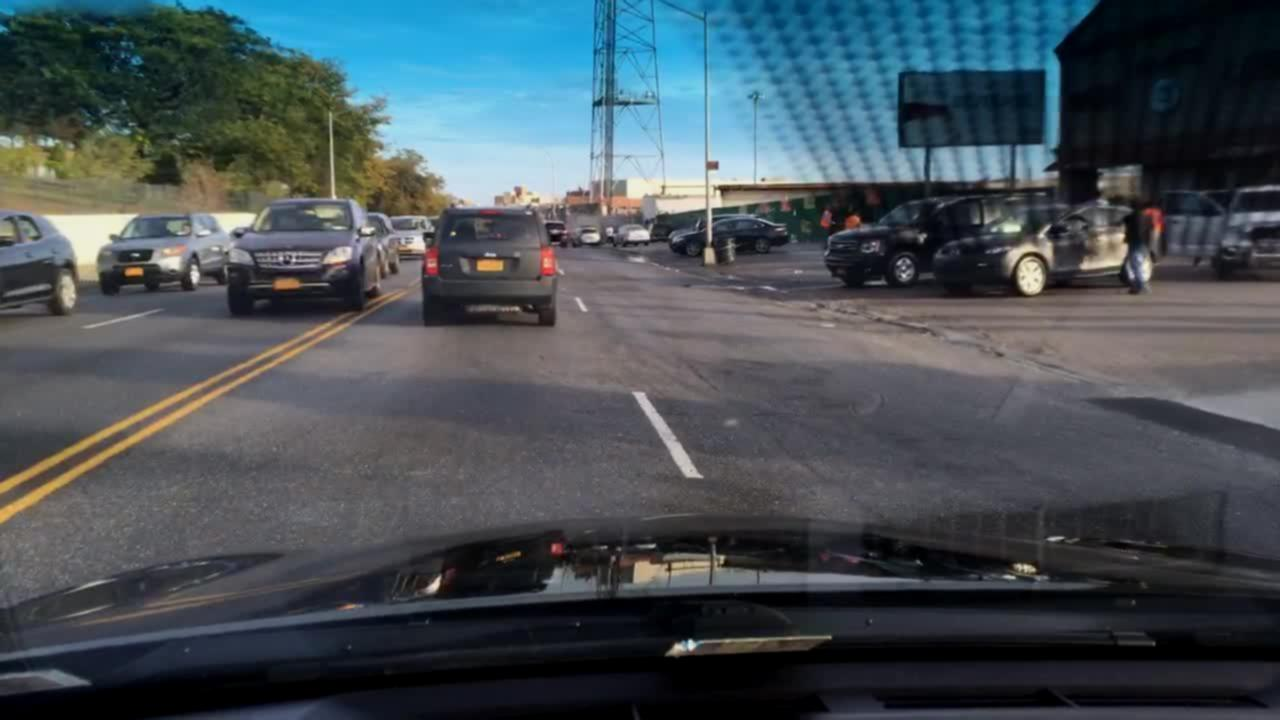Mercedes: (277, 251, 297, 269)
jeep: (477, 248, 502, 263)
